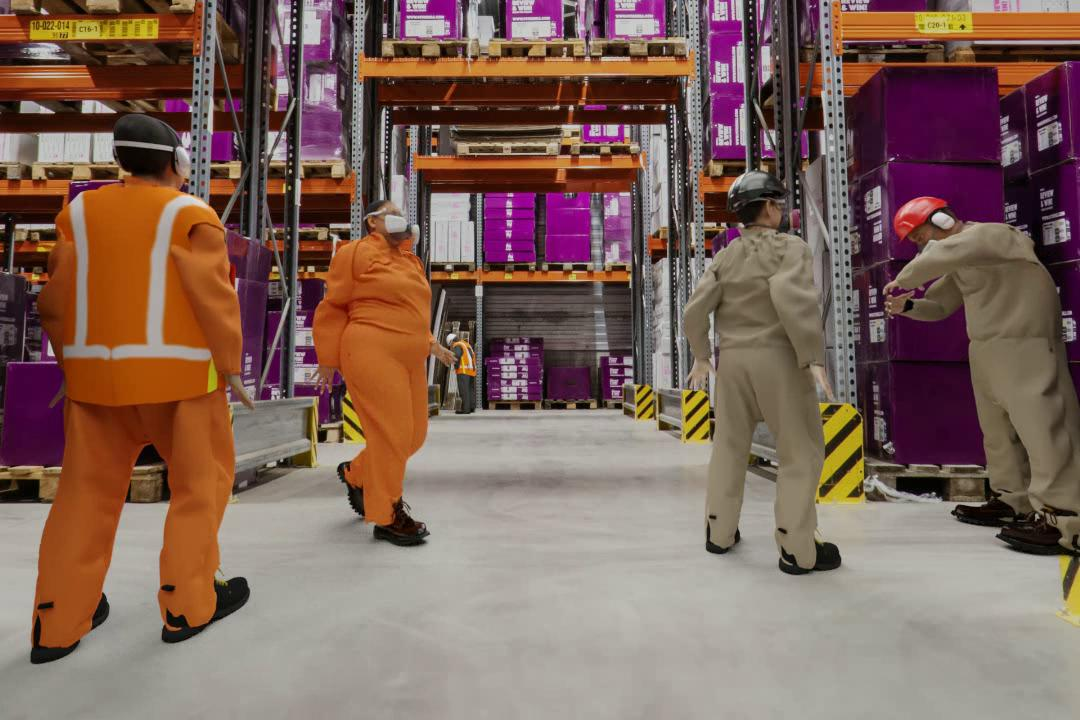Helmet: (890, 194, 968, 243), (721, 170, 789, 207), (446, 333, 458, 340)
Jacket: (62, 187, 211, 401), (455, 341, 477, 376)
Shoes: (23, 588, 112, 667), (160, 573, 253, 647), (999, 518, 1079, 560), (372, 500, 430, 547), (952, 491, 1027, 523), (780, 537, 843, 575), (337, 458, 356, 516), (455, 408, 470, 415)
